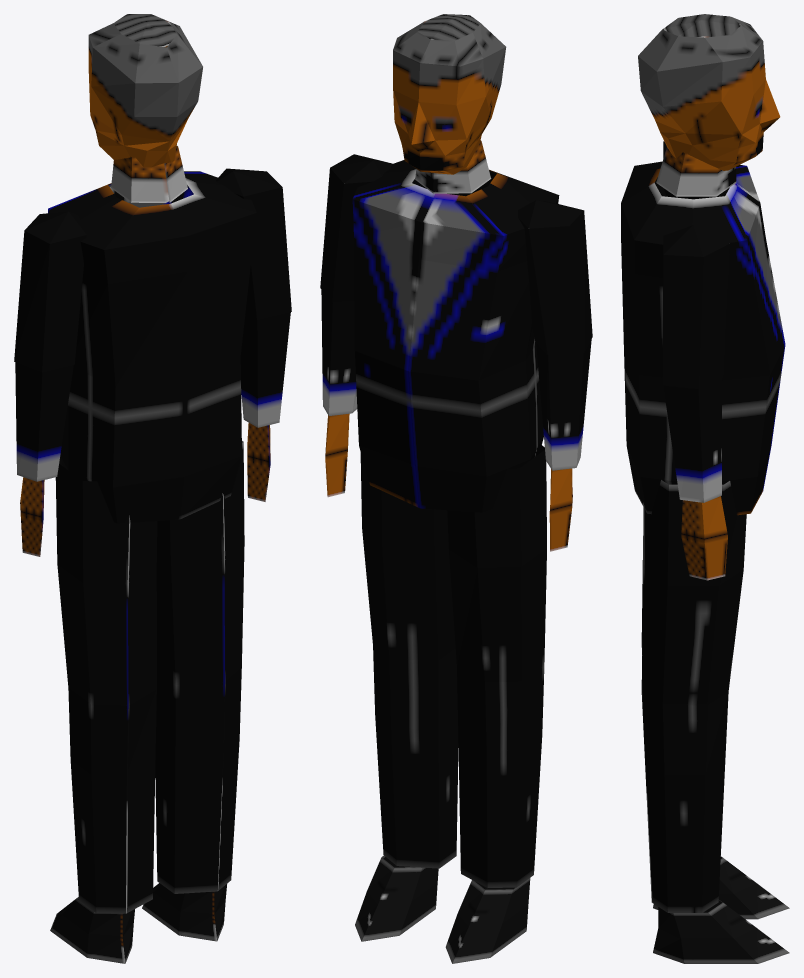
The model's file is Jame_new_v2.fbx.
3 views of the same model, side by side, from view 1: azimuth 30°, elevation 25°; view 2: azimuth 150°, elevation 25°; view 3: azimuth 270°, elevation 25° (orthographic).
Parts seen in each view (by area): view 1: man; view 2: man; view 3: man.
Part boxes in pixels (bbox=[...]): man: bbox=[14, 14, 291, 963]; man: bbox=[320, 14, 592, 963]; man: bbox=[621, 14, 789, 963].
Bounding box in the file's own units: 24.59 × 80.13 × 13.47.
1 material, 1 textured.
